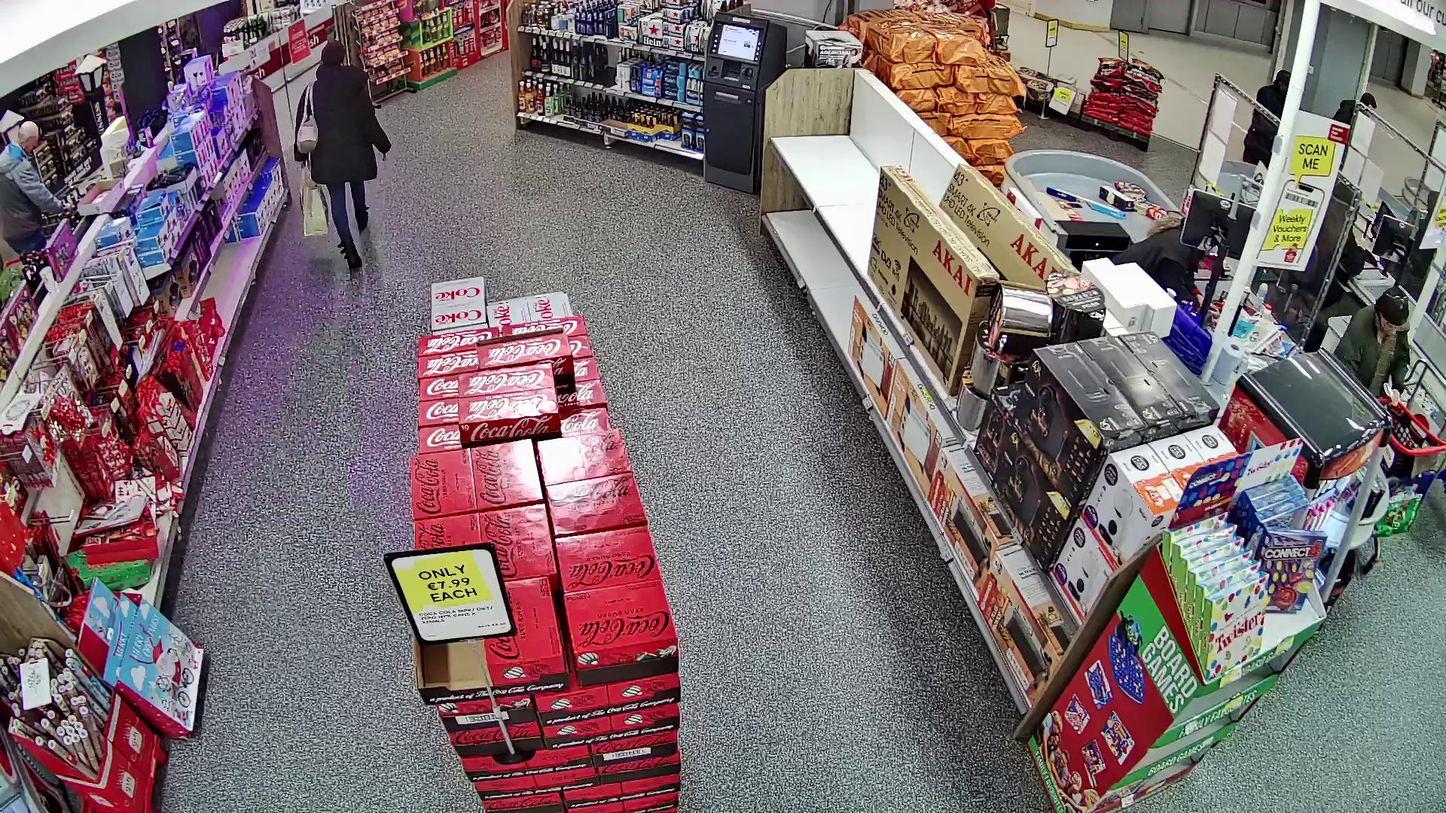backpack-or-handbag: (297, 113, 318, 155)
filled-shopping-bags: (297, 166, 329, 240)
occupied-checkout-counter: (1059, 176, 1270, 310)
person: (293, 40, 391, 267)
person-with-backpack-handbag-and-shopping-bag-s-: (293, 39, 391, 265)
